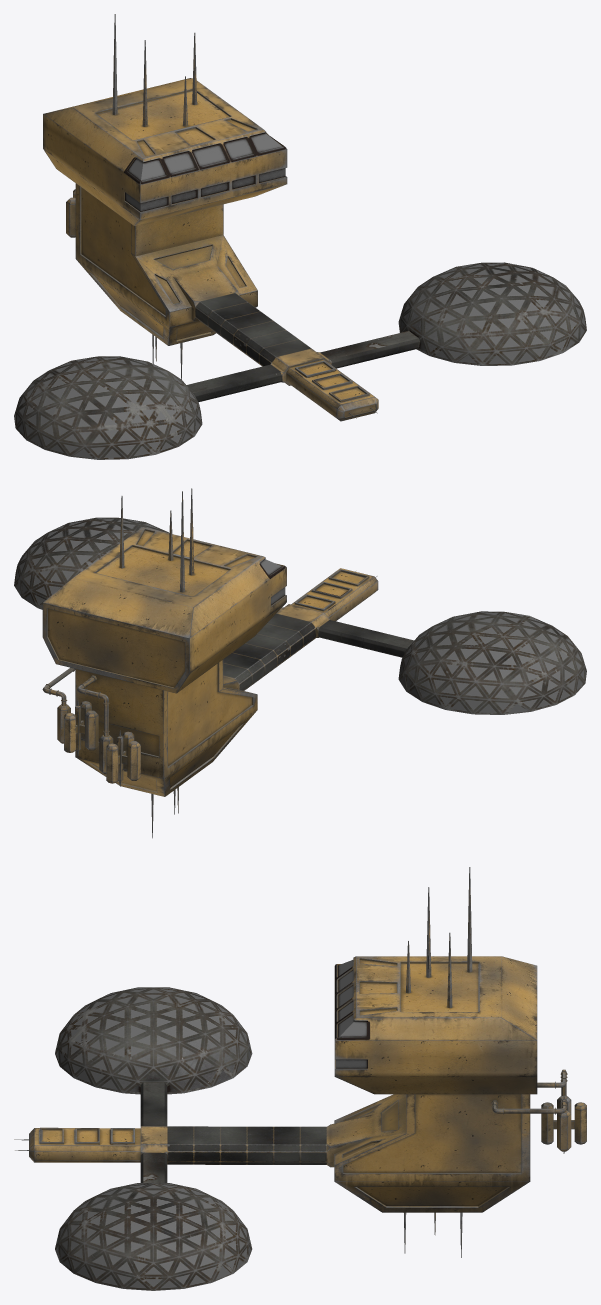
Rendered from station_freeport_zero.glb.
The picture shows the model from 3 angles, top to bottom: view 1: azimuth 30°, elevation 25°; view 2: azimuth 150°, elevation 25°; view 3: azimuth 270°, elevation 25°; orthographic projection. The views are drawn at different scales.
Visible parts, largest first — view 1: Freeport Zero; view 2: Freeport Zero; view 3: Freeport Zero.
Part boxes in pixels (<box>): Freeport Zero: <box>14,14,586,459</box>; Freeport Zero: <box>14,488,586,838</box>; Freeport Zero: <box>14,867,586,1290</box>.
Bounding box in the file's own units: 29.48 × 18.4 × 25.58.
1 material, 1 textured.
